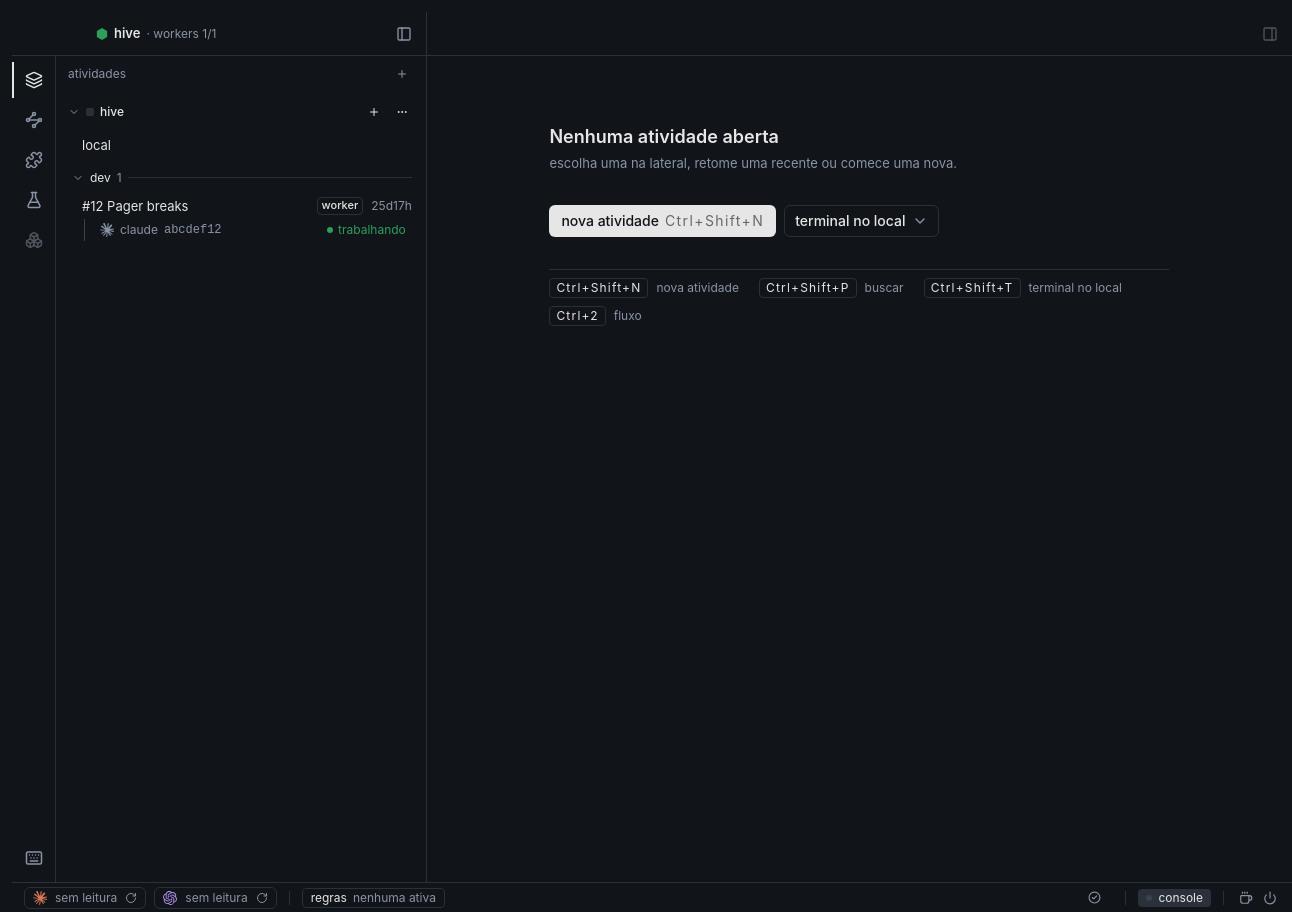
Test: an issue opened from the Atividades view goes back to the flow, not to that view (#380)
Click the button named "fluxo" at (34, 120), box [12,102,56,138]
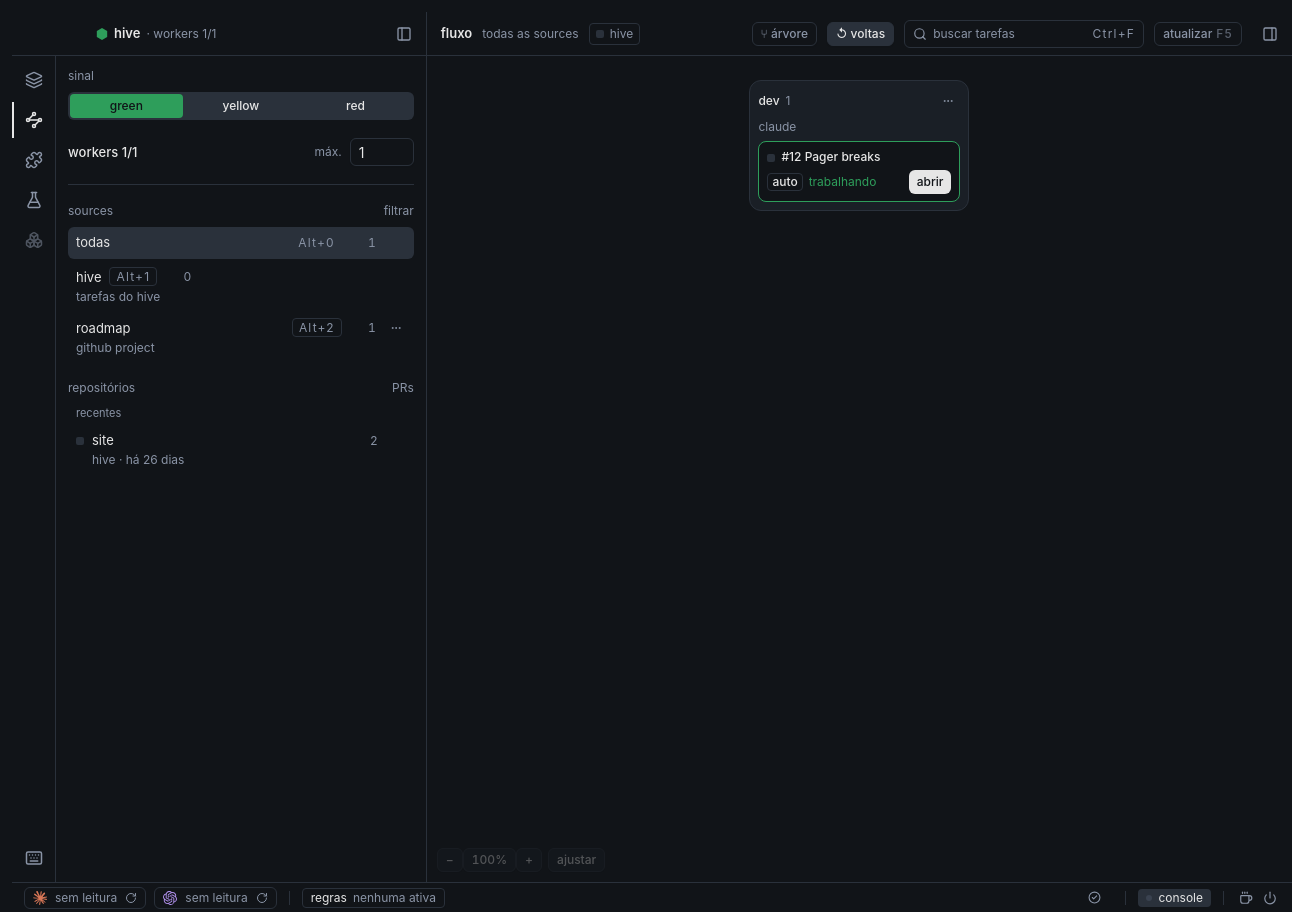
Now the button "site 2 hive · há 26 dias" is shown, box [68,425,414,474]
Click the button named "atividades" at (34, 80), box [12,62,56,98]
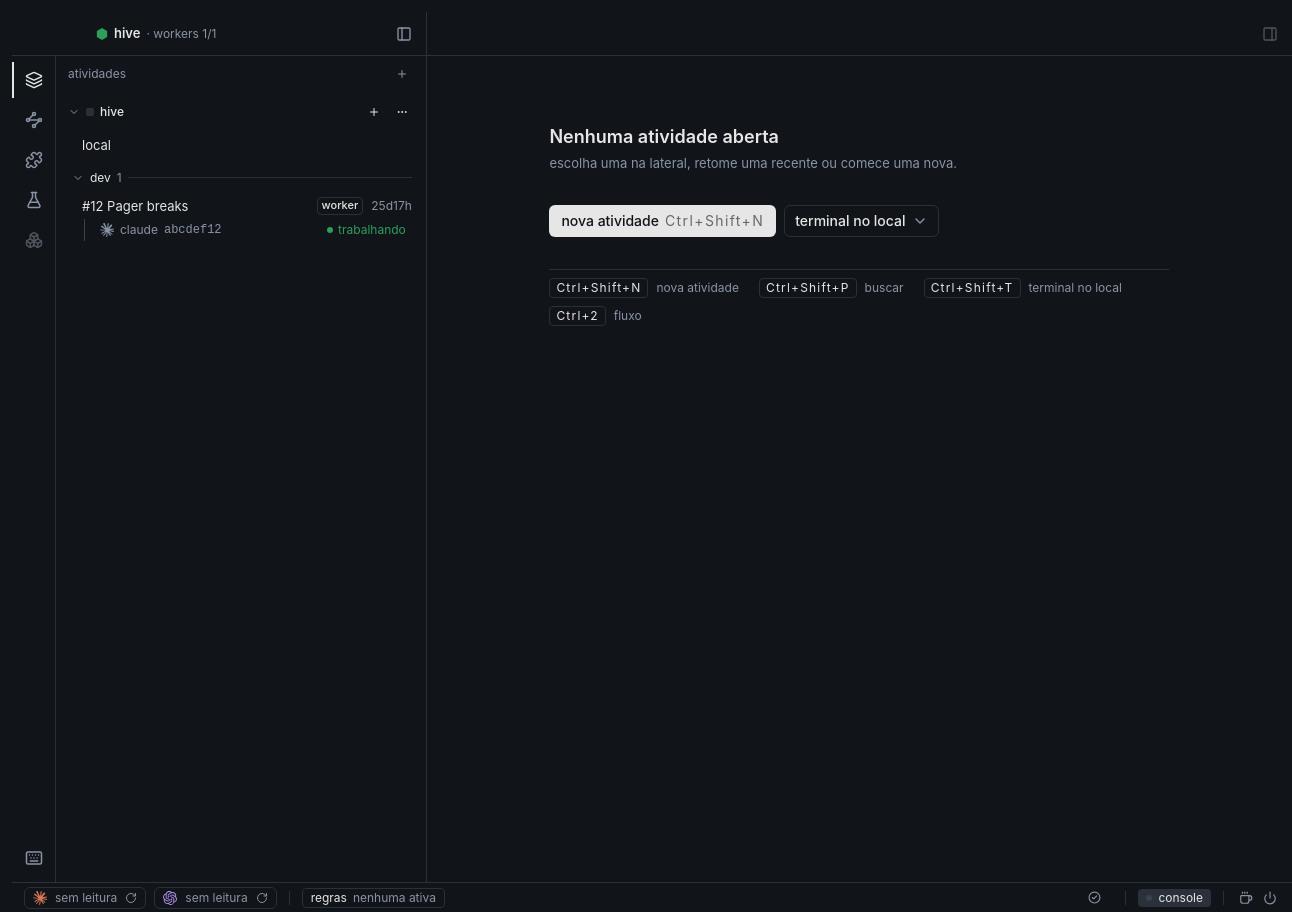
Click the button "#12 Pager breaks worker 25d17h" at (135, 206), box [82,197,412,215]
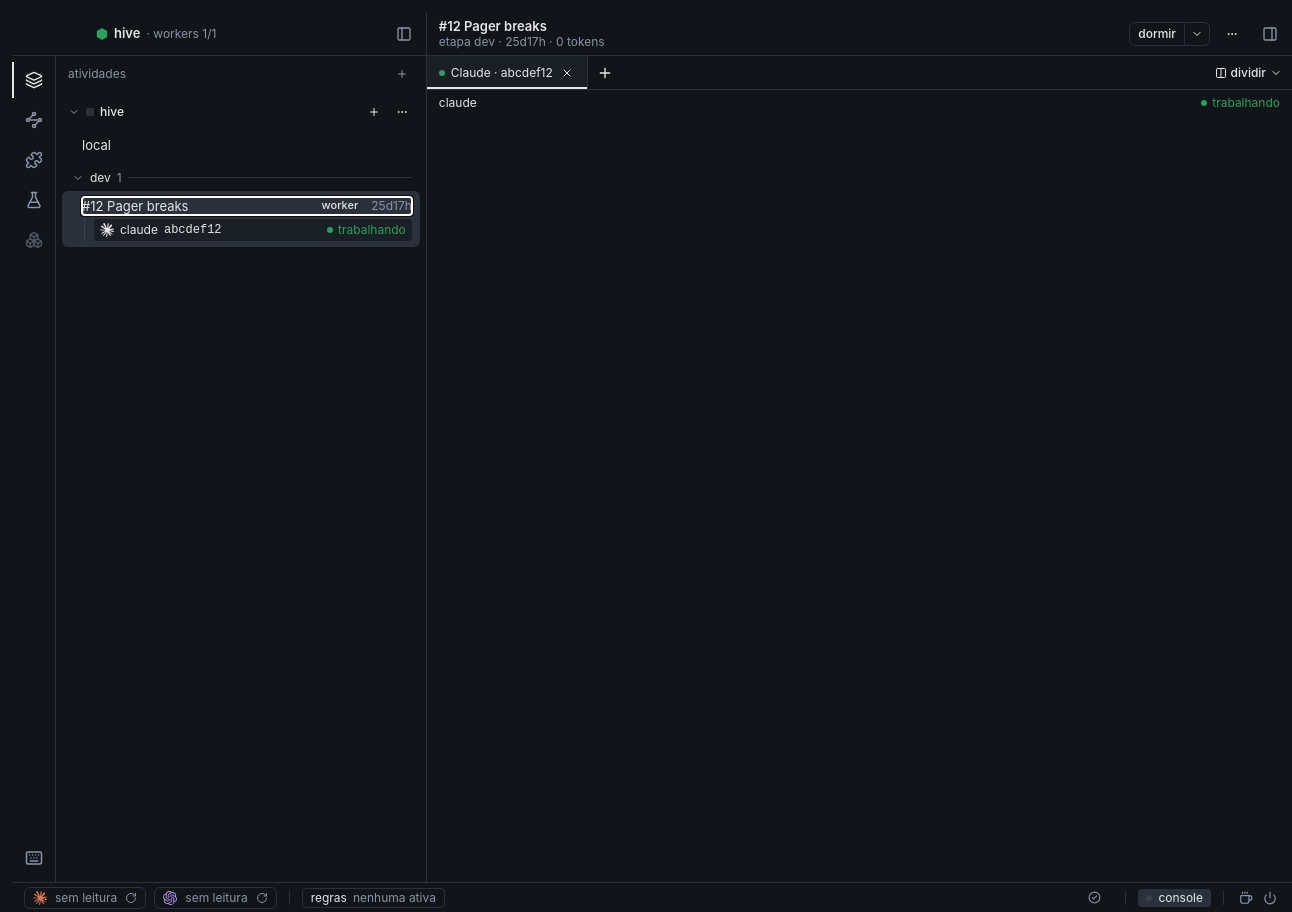
Press E
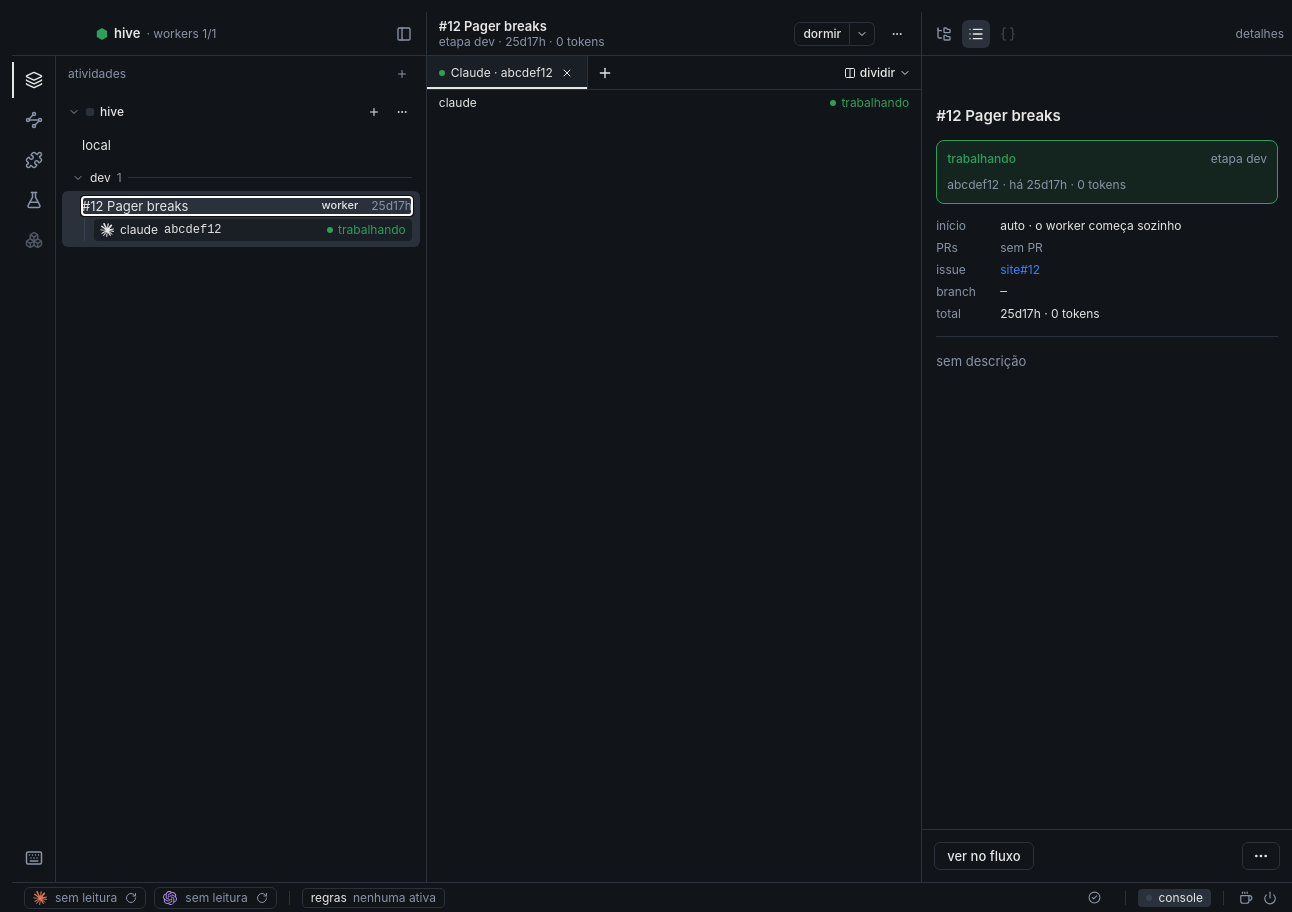
Click the link "site#12" at (1020, 270), box [1000,262,1040,278]
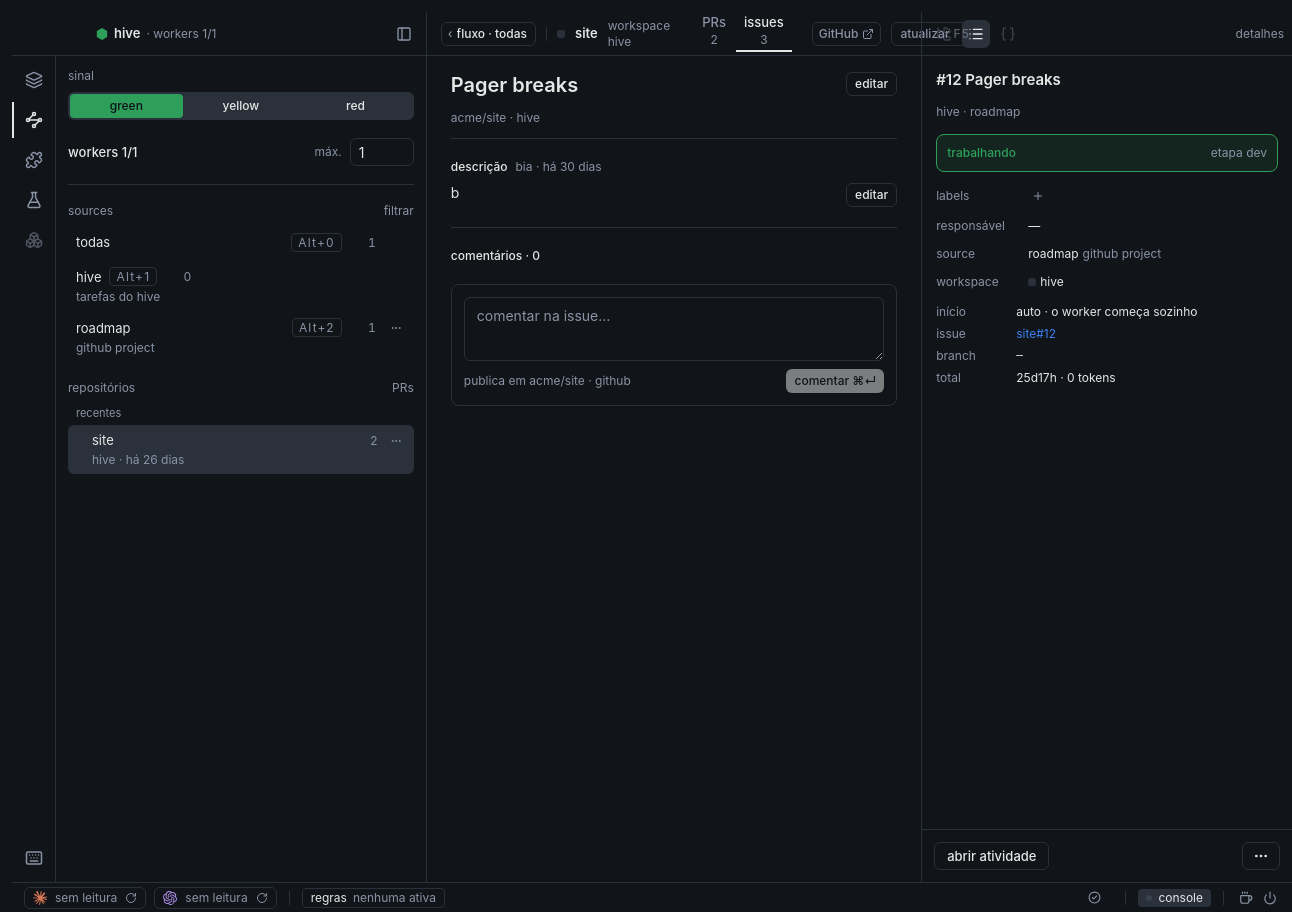
Now the heading "Pager breaks" is shown, box [451,73,578,97]
Click the button "‹ fluxo · todas" at (488, 34), box [441,22,536,46]
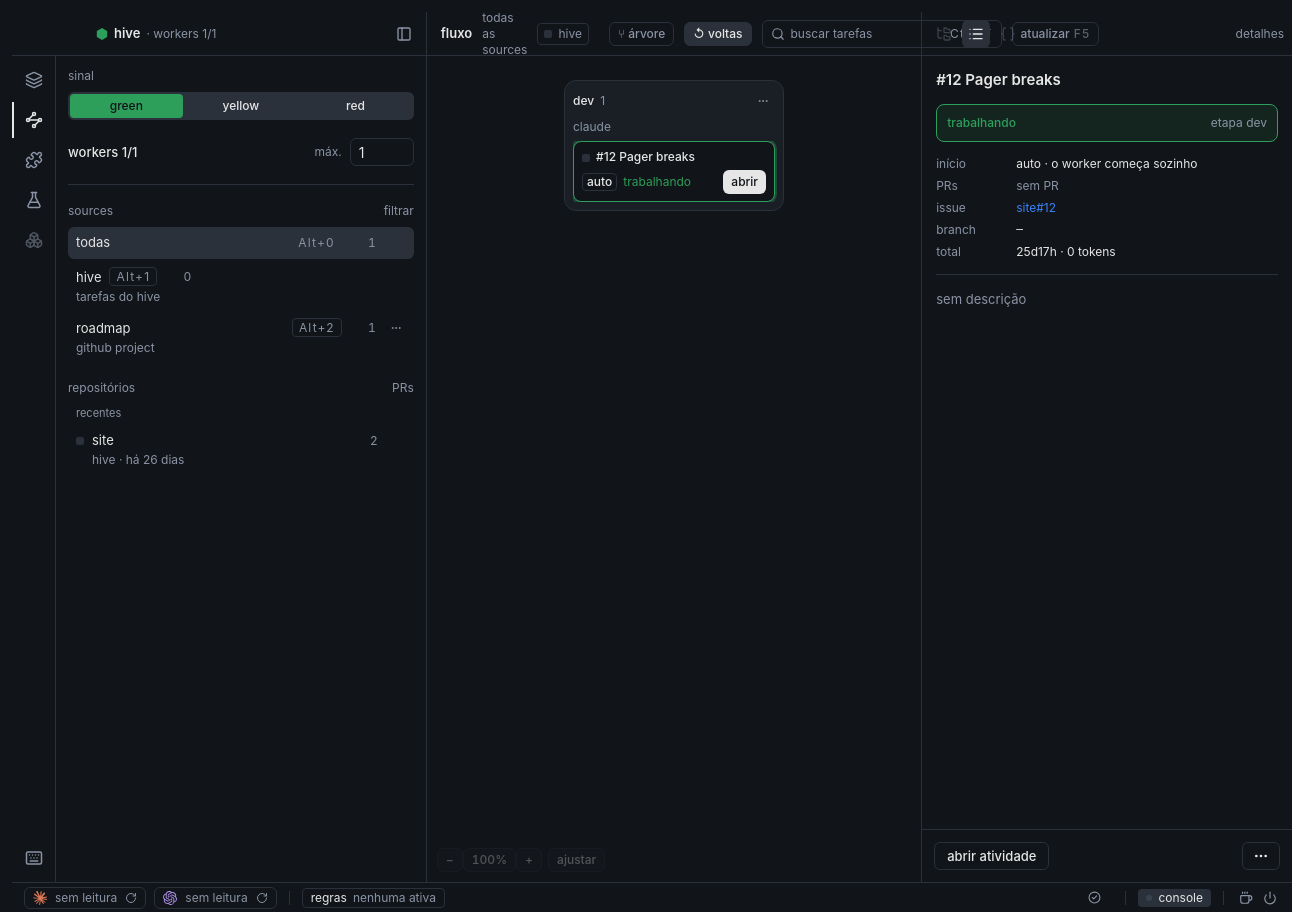
Now the text "todas as sources" is shown, box [482,12,527,58]
